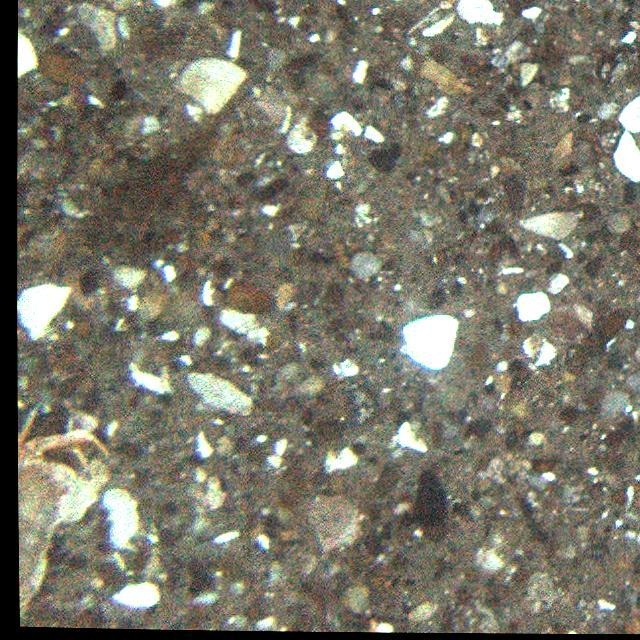crab: (16, 405, 98, 629)
